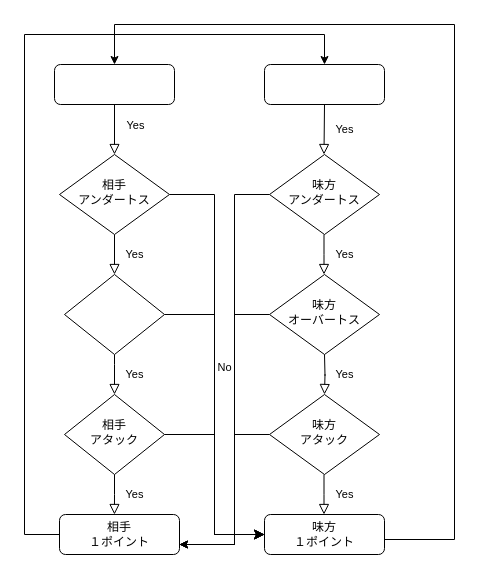
Some shapes in this 480 by 572 pixel diagram are drawn without their labels. The centre of each missing label's shape, as x and y in pixels:
味方 サーブ: point (114, 84)
相手 オーバートス: point (114, 314)
相手 サーブ: point (324, 84)
